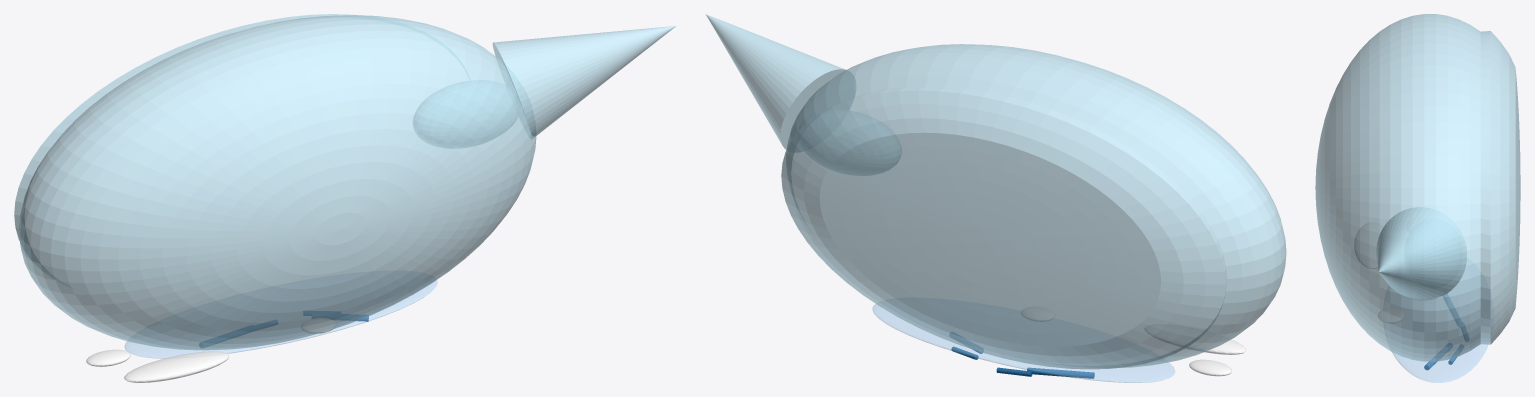
Rendered from companion.glb.
3 renders of one model, left to right at view 1: azimuth 30°, elevation 25°; view 2: azimuth 150°, elevation 25°; view 3: azimuth 270°, elevation 25°, orthographic. The views are drawn at different scales.
Parts seen in each view (by area): view 1: main_soft_slime_body, small_tail_droplet, tail_blend_bump, large_white_gloss_highlight, inner_blue_soft_shape, small_white_gloss_highlight; view 2: main_soft_slime_body, small_tail_droplet, tail_blend_bump, inner_blue_soft_shape, large_white_gloss_highlight, small_white_gloss_highlight; view 3: main_soft_slime_body, small_tail_droplet, inner_blue_soft_shape, large_white_gloss_highlight, tiny_inner_shine, right_face_line.
Part boxes in pixels (x1=…): main_soft_slime_body: x1=14, y1=14, x2=536, y2=350; small_tail_droplet: x1=492, y1=26, x2=675, y2=138; tail_blend_bump: x1=413, y1=80, x2=519, y2=148; large_white_gloss_highlight: x1=124, y1=351, x2=229, y2=382; inner_blue_soft_shape: x1=124, y1=280, x2=437, y2=358; small_white_gloss_highlight: x1=86, y1=349, x2=130, y2=366; main_soft_slime_body: x1=781, y1=44, x2=1286, y2=369; small_tail_droplet: x1=705, y1=14, x2=855, y2=151; tail_blend_bump: x1=798, y1=110, x2=901, y2=175; inner_blue_soft_shape: x1=872, y1=304, x2=1175, y2=382; large_white_gloss_highlight: x1=1144, y1=324, x2=1245, y2=354; small_white_gloss_highlight: x1=1189, y1=359, x2=1231, y2=376; main_soft_slime_body: x1=1315, y1=14, x2=1520, y2=361; small_tail_droplet: x1=1376, y1=207, x2=1466, y2=300; inner_blue_soft_shape: x1=1392, y1=344, x2=1488, y2=382; large_white_gloss_highlight: x1=1354, y1=222, x2=1382, y2=268; tiny_inner_shine: x1=1378, y1=308, x2=1404, y2=323; right_face_line: x1=1424, y1=343, x2=1452, y2=370.
Size of the model in its own units: 3.84 by 1.83 by 1.22.
